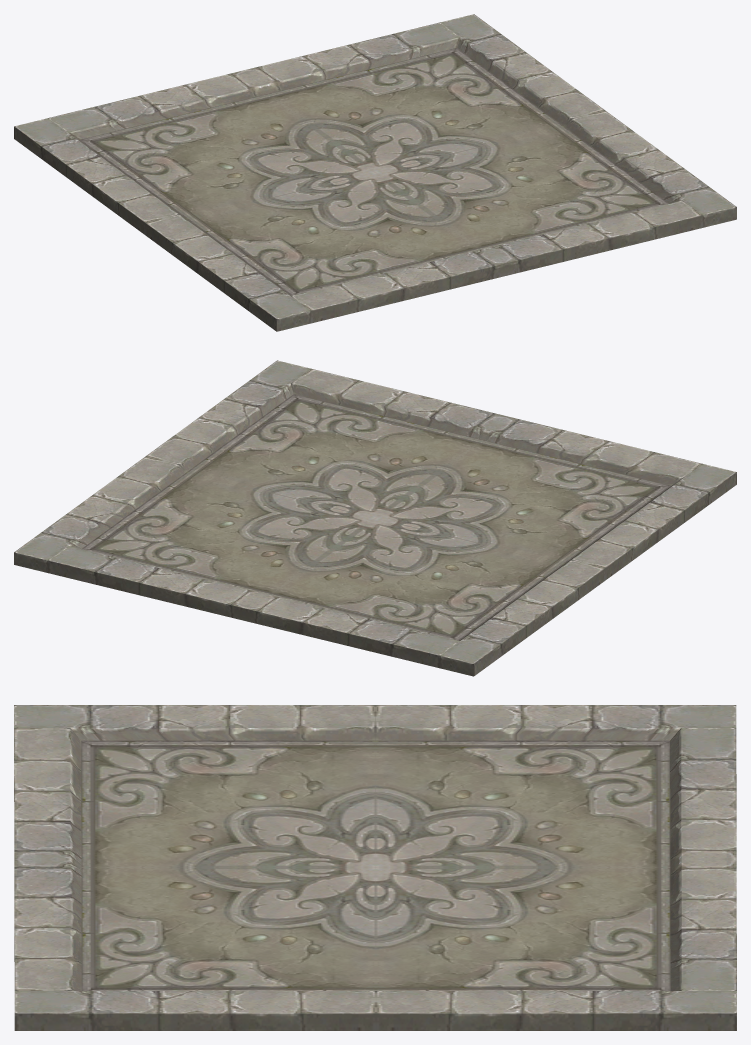
File: WSD_Item_07.FBX
3 renders of one model, top to bottom at view 1: azimuth 30°, elevation 25°; view 2: azimuth 150°, elevation 25°; view 3: azimuth 270°, elevation 25°, orthographic. The views are drawn at different scales.
Visible parts, largest first — view 1: WSD_Item_07; view 2: WSD_Item_07; view 3: WSD_Item_07.
Part boxes in pixels (x1=…): WSD_Item_07: x1=14, y1=14, x2=736, y2=331; WSD_Item_07: x1=14, y1=360, x2=736, y2=676; WSD_Item_07: x1=14, y1=705, x2=736, y2=1030.
Bounding box in the file's own units: 10.35 × 0.2775 × 10.25.
